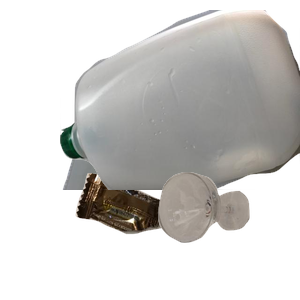glass: (156, 170, 300, 300)
metal: (60, 82, 300, 262)
plastic: (60, 10, 300, 190)
trash: (73, 171, 242, 300)
